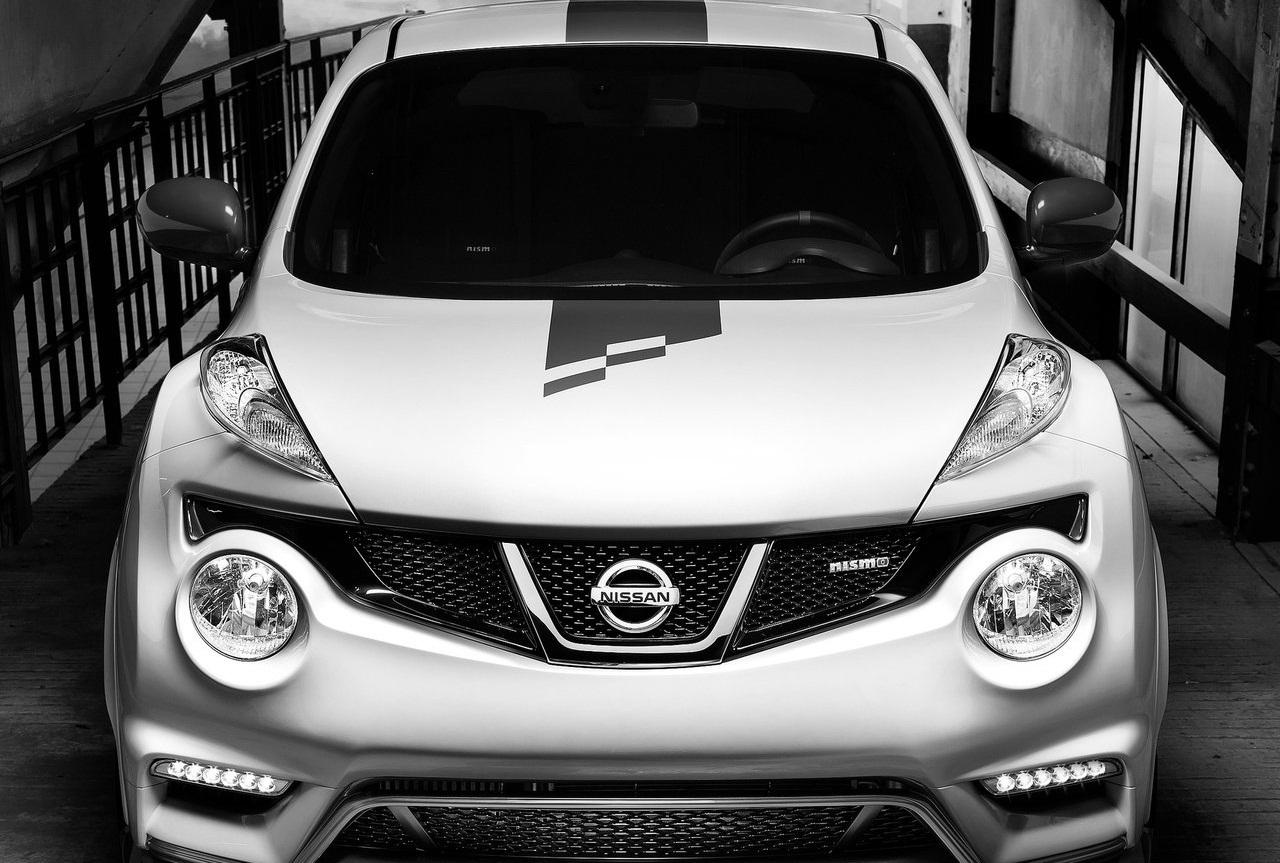car: (100, 5, 1179, 862)
